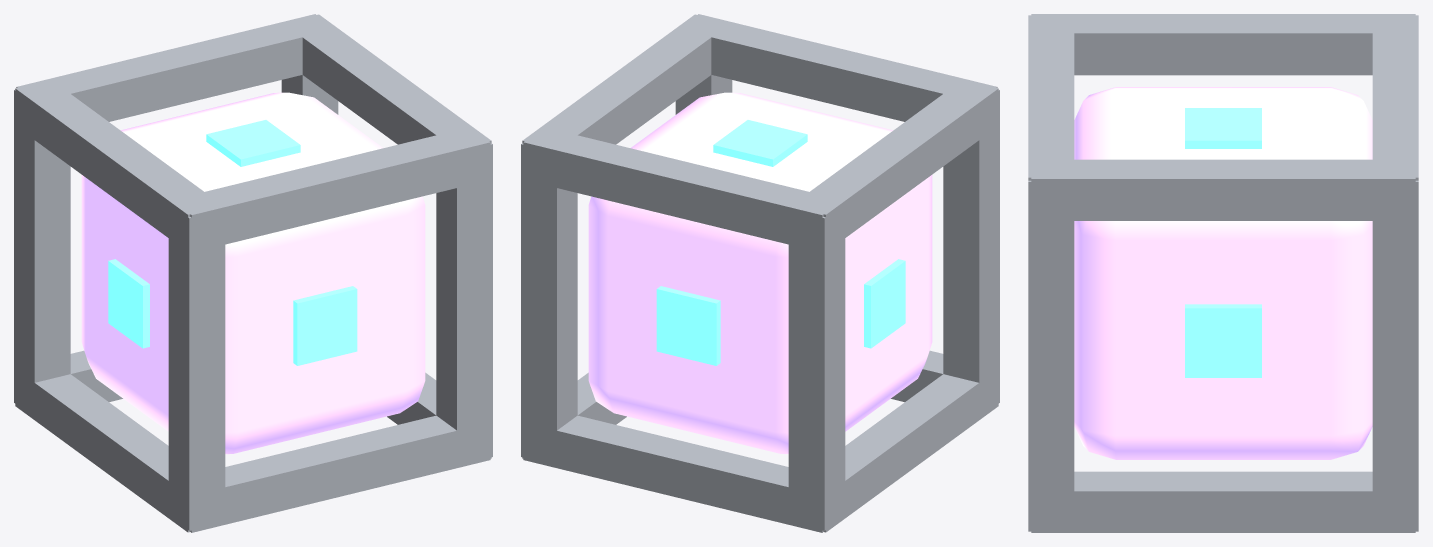
Rendered from fluss_teil.glb.
The picture shows the model from 3 angles, left to right: view 1: azimuth 30°, elevation 25°; view 2: azimuth 150°, elevation 25°; view 3: azimuth 270°, elevation 25°; orthographic projection. The views are drawn at different scales.
Visible parts, largest first — view 1: fluss_teil; view 2: fluss_teil; view 3: fluss_teil.
Part boxes in pixels (x1,y1,x2,y2): fluss_teil: [14, 14, 492, 532]; fluss_teil: [521, 14, 999, 532]; fluss_teil: [1028, 14, 1418, 532].
Size of the model in its own units: 0.254 by 0.254 by 0.254.
